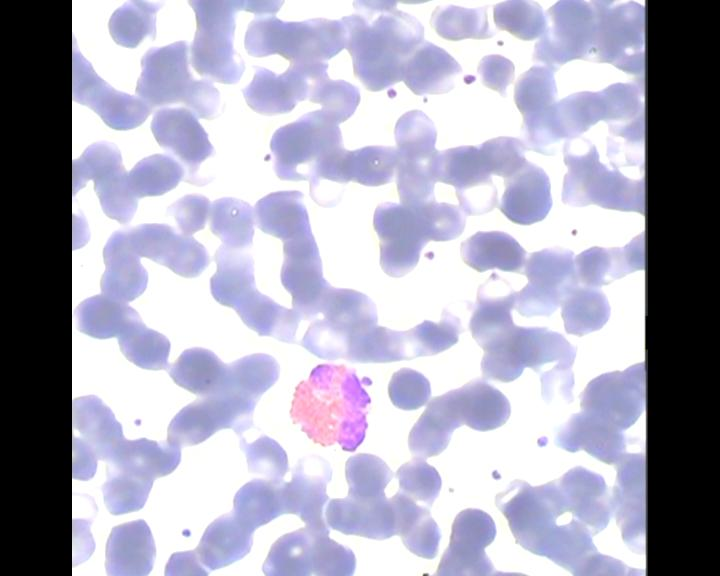eosi: (283, 356, 379, 454)
